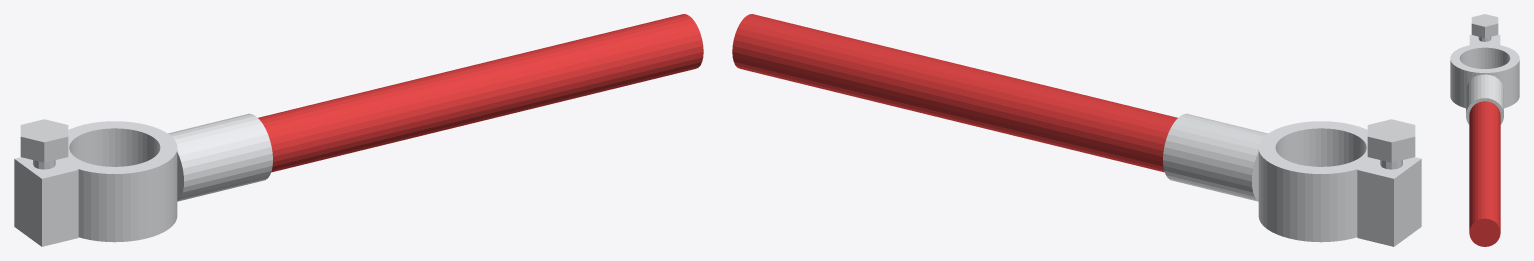
File: sae-clamp-pos.glb
3 renders of one model, left to right at view 1: azimuth 30°, elevation 25°; view 2: azimuth 150°, elevation 25°; view 3: azimuth 270°, elevation 25°, orthographic. The views are drawn at different scales.
Visible parts, largest first — view 1: cable, clamp, barrel, bolt; view 2: cable, clamp, barrel, bolt; view 3: cable, clamp, barrel, bolt.
Boxes of the visible parts, left/top/right/bottom form: cable: left=258, top=14, right=703, bottom=172; clamp: left=14, top=121, right=177, bottom=246; barrel: left=168, top=113, right=272, bottom=201; bolt: left=20, top=119, right=68, bottom=169; cable: left=732, top=14, right=1177, bottom=172; clamp: left=1258, top=121, right=1421, bottom=246; barrel: left=1163, top=113, right=1267, bottom=201; bolt: left=1367, top=119, right=1415, bottom=169; cable: left=1469, top=101, right=1500, bottom=246; clamp: left=1450, top=35, right=1519, bottom=108; barrel: left=1466, top=74, right=1503, bottom=124; bolt: left=1471, top=14, right=1498, bottom=41.
Bounding box in the file's own units: 0.1567 × 0.0229 × 0.0254.
